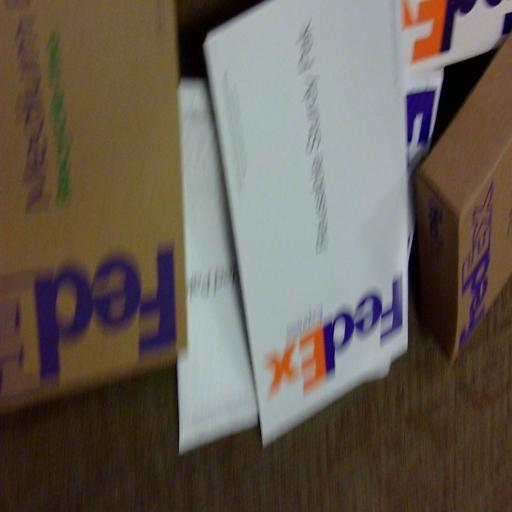Amazon: (213, 0, 413, 416), (0, 0, 194, 365), (435, 76, 512, 333)
